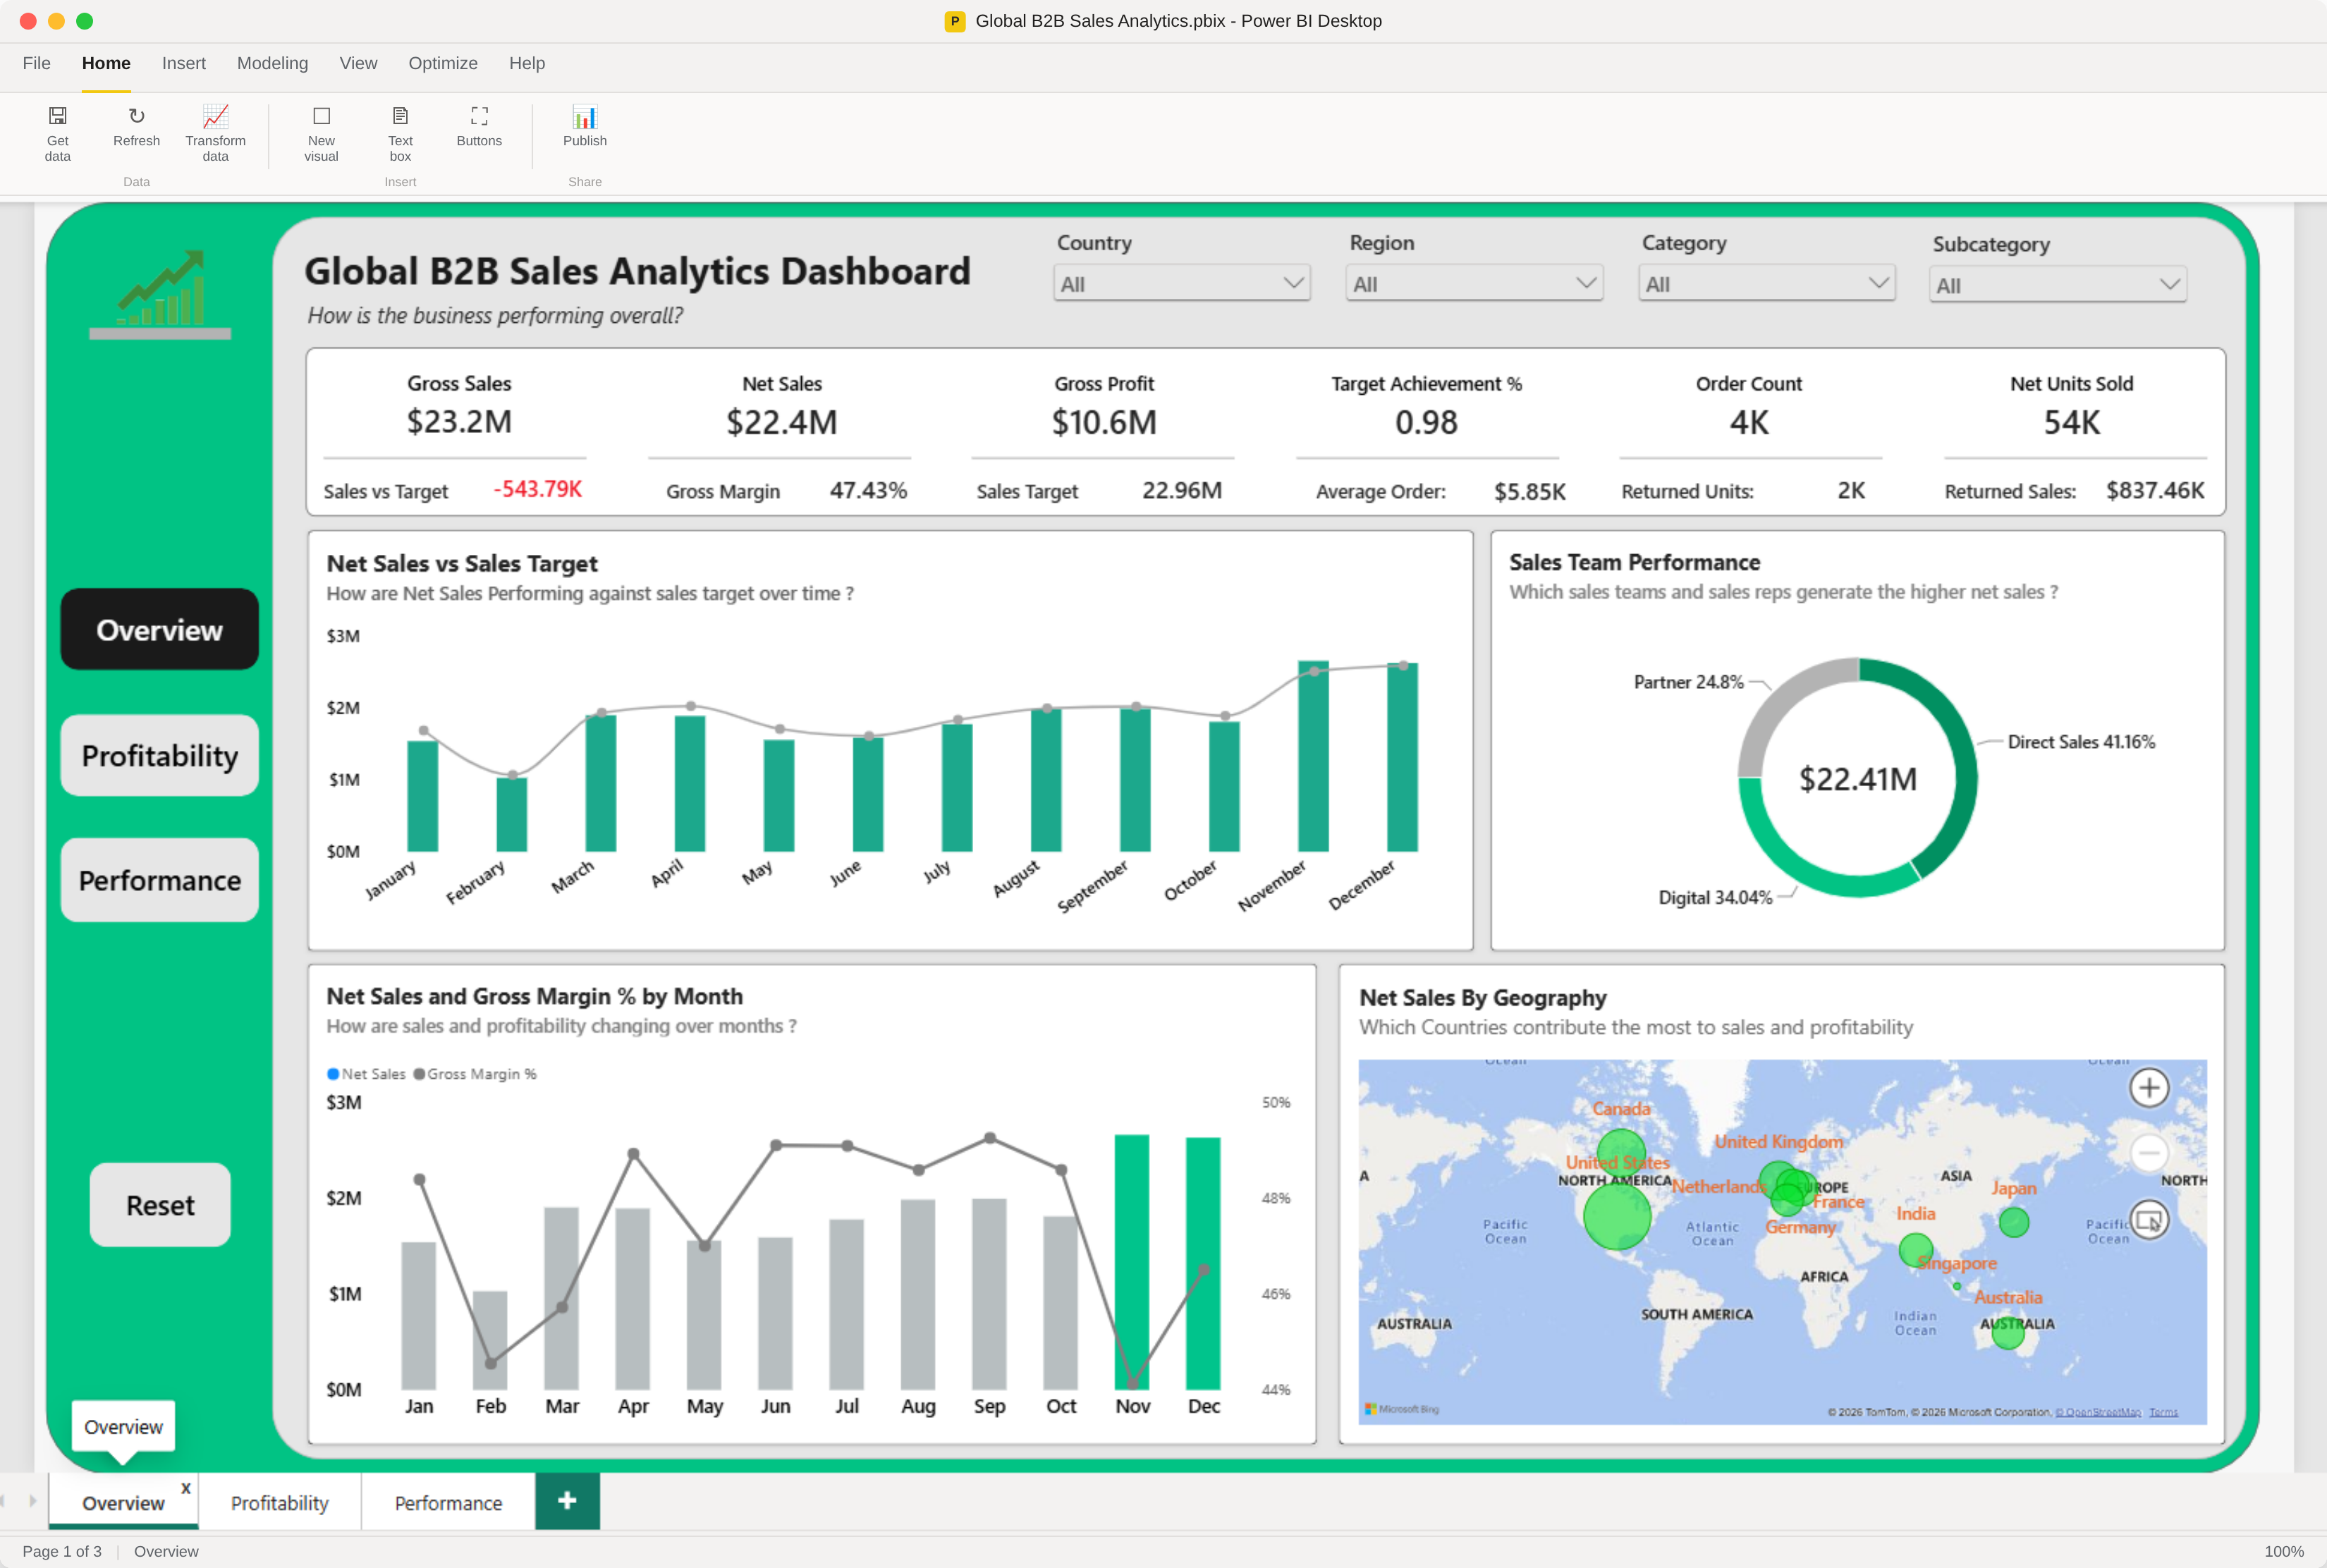

This screenshot's page, from the dashboard's own definition file:
{"tool":"powerbi","page":{"name":"Overview","canvas":[1920,1080],"ordinal":0},"visuals":[{"type":"shape","box":[10.3,0,1881.1,1080.6],"z":0},{"type":"shape","box":[201.9,12.3,1677.3,1055.7],"z":1000},{"type":"textbox","box":[229.6,35.4,670.3,61.6],"z":2000},{"type":"textbox","box":[232.1,81.8,669.6,41.7],"z":3000},{"type":"cardVisual","fields":{"Data":["Overview measures.Gross Sales","Overview measures.Net Sales","Overview measures.Gross Profit","Overview measures.Target Achievement %","Overview measures.Order Count","Overview measures.Net Units Sold"]},"box":[230.2,123.2,1631.1,143.3],"z":4000,"group":"g1"},{"type":"group","id":"g1","title":"Group 1","box":[230.2,123.2,1631.9,143.7],"z":4000},{"type":"slicer","fields":{"Values":["DimGeography.Country"]},"box":[860.7,22,228.7,74.8],"z":5000},{"type":"shape","box":[246,195.9,223.6,42.5],"z":5000,"group":"g1"},{"type":"slicer","fields":{"Values":["DimGeography.Region"]},"box":[1108.9,22,228.7,74.8],"z":6000},{"type":"shape","box":[521.3,195.9,223.6,42.5],"z":6000,"group":"g1"},{"type":"slicer","fields":{"Values":["DimProduct.Category"]},"box":[1357.2,22,228.7,74.8],"z":7000},{"type":"shape","box":[796.5,195.9,223.6,42.5],"z":7000,"group":"g1"},{"type":"slicer","fields":{"Values":["DimProduct.Subcategory"]},"box":[1605.5,23.5,228.7,74.8],"z":8000},{"type":"shape","box":[1071.8,195.9,223.6,42.5],"z":8000,"group":"g1"},{"type":"shape","box":[1347.1,195.9,223.6,42.5],"z":9000,"group":"g1"},{"type":"shape","box":[231.7,278.6,991.2,357.8],"z":9000},{"type":"shape","box":[1622.3,195.9,223.6,42.5],"z":10000,"group":"g1"},{"type":"lineStackedColumnComboChart","title":"Net Sales vs Sales Target","fields":{"Category":["DimDate.Date.Variation.Date Hierarchy.Month"],"Y":["Overview measures.Net Sales"],"Y2":["Overview measures.Sales Target"]},"box":[231.7,278.6,991.2,357.8],"z":10000},{"type":"shape","box":[1237.5,278.6,624.6,357.8],"z":11000},{"type":"shape","box":[231.7,646.6,857.7,409.1],"z":12000},{"type":"shape","box":[1108.5,646.6,753.6,409.1],"z":13000},{"type":"image","box":[36.2,24.2,141.9,87.5],"z":14000,"group":"g2"},{"type":"donutChart","title":"Sales Team Performance","fields":{"Category":["DimChannel.ChannelGroup"],"Y":["Overview measures.Net Sales"]},"box":[1237.4,278.9,625.3,358.2],"z":14000},{"type":"shape","box":[46.8,89.1,120.8,45.3],"z":14005,"group":"g2"},{"type":"lineStackedColumnComboChart","title":"Net Sales and Gross  Margin % by Month","fields":{"Category":["DimDate.MonthShort"],"Y":["Overview measures.Net Sales"],"Y2":["Overview measures.Gross Margin %"]},"box":[231.4,647.1,857.2,409.6],"z":15000},{"type":"map","title":"Net Sales By Geography","fields":{"Category":["DimGeography2.Country"],"Size":["Overview measures.Net Sales"]},"box":[1109.4,647.5,753.2,407.5],"z":16000},{"type":"actionButton","box":[22.6,327.8,169.1,69.4],"z":17000},{"type":"group","id":"g2","title":"Group 2","box":[36.2,24.2,141.9,110.2],"z":18000},{"type":"actionButton","box":[22.6,435,169.1,69.4],"z":19000},{"type":"actionButton","box":[22.6,539.1,169.1,72.5],"z":20000},{"type":"actionButton","box":[46.8,815.1,120.8,72.5],"z":21000},{"type":"cardVisual","fields":{"Data":["Overview measures.Sales vs Target"]},"box":[367.8,221.3,119.6,44.9],"z":22000},{"type":"textbox","box":[245.2,231.8,122.6,34.4],"z":23000},{"type":"textbox","box":[536.8,231.8,122.6,34.4],"z":24000},{"type":"cardVisual","fields":{"Data":["Overview measures.Gross Margin %"]},"box":[649,221.3,119.6,44.9],"z":25000},{"type":"cardVisual","fields":{"Data":["Overview measures.Sales Target"]},"box":[915.1,221.3,119.6,44.9],"z":26000},{"type":"textbox","box":[800,231.8,122.6,34.4],"z":27000},{"type":"cardVisual","fields":{"Data":["Overview measures.Average Order"]},"box":[1211.2,222.8,119.6,44.9],"z":28000},{"type":"textbox","box":[1088.6,231.8,122.6,34.4],"z":29000},{"type":"cardVisual","fields":{"Data":["Overview measures.Returned Quantity"]},"box":[1484.8,221.3,119.6,44.9],"z":30000},{"type":"textbox","box":[1348.8,231.8,122.6,34.4],"z":31000},{"type":"cardVisual","fields":{"Data":["FactSales.Returned Sales"]},"box":[1742,221.3,119.6,44.9],"z":32000},{"type":"textbox","box":[1622.4,231.8,122.6,34.4],"z":33000}]}

Visuals, with their boxes on the page's 1920x1080 design canvas (x1, y1, x2, y2). These are canvas units, not pixel positions in the 2327x1568 screenshot, which may show the page scaled, cropped or inside an application window:
shape: {"x1": 10, "y1": 0, "x2": 1891, "y2": 1081}
shape: {"x1": 202, "y1": 12, "x2": 1879, "y2": 1068}
textbox: {"x1": 230, "y1": 35, "x2": 900, "y2": 97}
textbox: {"x1": 232, "y1": 82, "x2": 902, "y2": 124}
cardVisual - Overview measures.Gross Sales x Overview measures.Net Sales: {"x1": 230, "y1": 123, "x2": 1861, "y2": 266}
"Group 1" group: {"x1": 230, "y1": 123, "x2": 1862, "y2": 267}
slicer - DimGeography.Country: {"x1": 861, "y1": 22, "x2": 1089, "y2": 97}
shape: {"x1": 246, "y1": 196, "x2": 470, "y2": 238}
slicer - DimGeography.Region: {"x1": 1109, "y1": 22, "x2": 1338, "y2": 97}
shape: {"x1": 521, "y1": 196, "x2": 745, "y2": 238}
slicer - DimProduct.Category: {"x1": 1357, "y1": 22, "x2": 1586, "y2": 97}
shape: {"x1": 796, "y1": 196, "x2": 1020, "y2": 238}
slicer - DimProduct.Subcategory: {"x1": 1606, "y1": 24, "x2": 1834, "y2": 98}
shape: {"x1": 1072, "y1": 196, "x2": 1295, "y2": 238}
shape: {"x1": 1347, "y1": 196, "x2": 1571, "y2": 238}
shape: {"x1": 232, "y1": 279, "x2": 1223, "y2": 636}
shape: {"x1": 1622, "y1": 196, "x2": 1846, "y2": 238}
"Net Sales vs Sales Target" lineStackedColumnComboChart: {"x1": 232, "y1": 279, "x2": 1223, "y2": 636}
shape: {"x1": 1238, "y1": 279, "x2": 1862, "y2": 636}
shape: {"x1": 232, "y1": 647, "x2": 1089, "y2": 1056}
shape: {"x1": 1108, "y1": 647, "x2": 1862, "y2": 1056}
image: {"x1": 36, "y1": 24, "x2": 178, "y2": 112}
"Sales Team Performance" donutChart: {"x1": 1237, "y1": 279, "x2": 1863, "y2": 637}
shape: {"x1": 47, "y1": 89, "x2": 168, "y2": 134}
"Net Sales and Gross  Margin % by Month" lineStackedColumnComboChart: {"x1": 231, "y1": 647, "x2": 1089, "y2": 1057}
"Net Sales By Geography" map: {"x1": 1109, "y1": 648, "x2": 1863, "y2": 1055}
actionButton: {"x1": 23, "y1": 328, "x2": 192, "y2": 397}
"Group 2" group: {"x1": 36, "y1": 24, "x2": 178, "y2": 134}
actionButton: {"x1": 23, "y1": 435, "x2": 192, "y2": 504}
actionButton: {"x1": 23, "y1": 539, "x2": 192, "y2": 612}
actionButton: {"x1": 47, "y1": 815, "x2": 168, "y2": 888}
cardVisual - Overview measures.Sales vs Target: {"x1": 368, "y1": 221, "x2": 487, "y2": 266}
textbox: {"x1": 245, "y1": 232, "x2": 368, "y2": 266}
textbox: {"x1": 537, "y1": 232, "x2": 659, "y2": 266}
cardVisual - Overview measures.Gross Margin %: {"x1": 649, "y1": 221, "x2": 769, "y2": 266}
cardVisual - Overview measures.Sales Target: {"x1": 915, "y1": 221, "x2": 1035, "y2": 266}
textbox: {"x1": 800, "y1": 232, "x2": 923, "y2": 266}
cardVisual - Overview measures.Average Order: {"x1": 1211, "y1": 223, "x2": 1331, "y2": 268}
textbox: {"x1": 1089, "y1": 232, "x2": 1211, "y2": 266}
cardVisual - Overview measures.Returned Quantity: {"x1": 1485, "y1": 221, "x2": 1604, "y2": 266}
textbox: {"x1": 1349, "y1": 232, "x2": 1471, "y2": 266}
cardVisual - FactSales.Returned Sales: {"x1": 1742, "y1": 221, "x2": 1862, "y2": 266}
textbox: {"x1": 1622, "y1": 232, "x2": 1745, "y2": 266}
